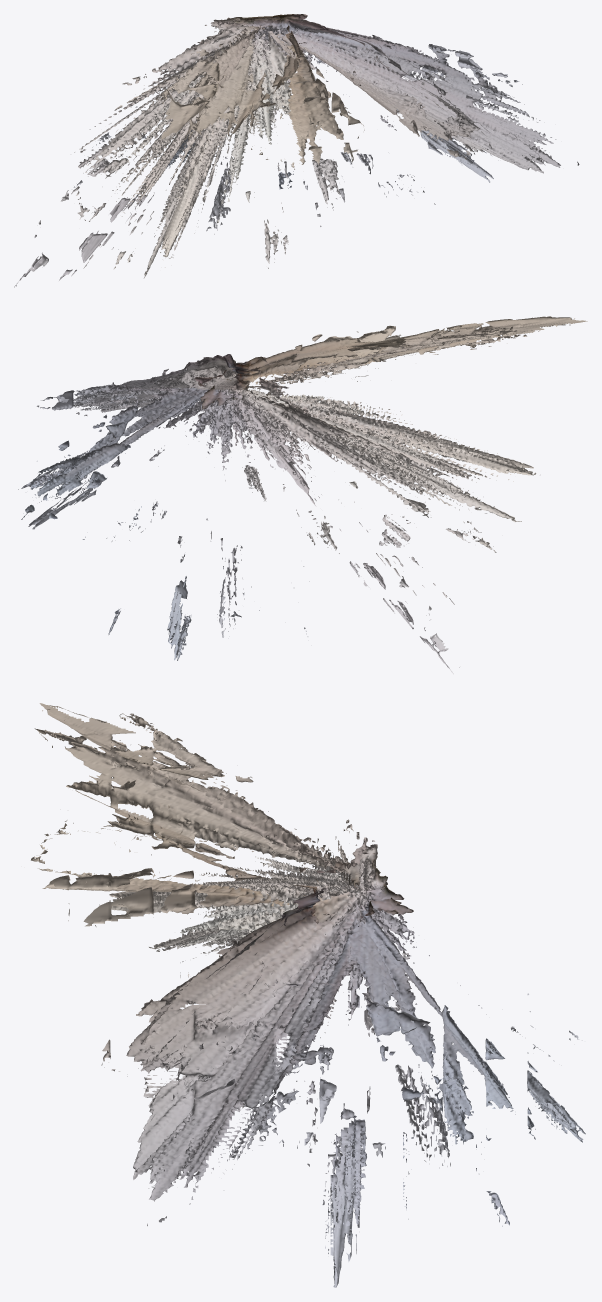
File: collider.glb
3 renders of one model, top to bottom at view 1: azimuth 30°, elevation 25°; view 2: azimuth 150°, elevation 25°; view 3: azimuth 270°, elevation 25°, orthographic. The views are drawn at different scales.
Visible parts, largest first — view 1: world; view 2: world; view 3: world.
Boxes of the visible parts, x1,y1,x2,y2 form: world: (14, 14, 579, 287); world: (18, 316, 587, 674); world: (31, 703, 585, 1287).
Size of the model in its own units: 122 by 65.61 by 97.51.
